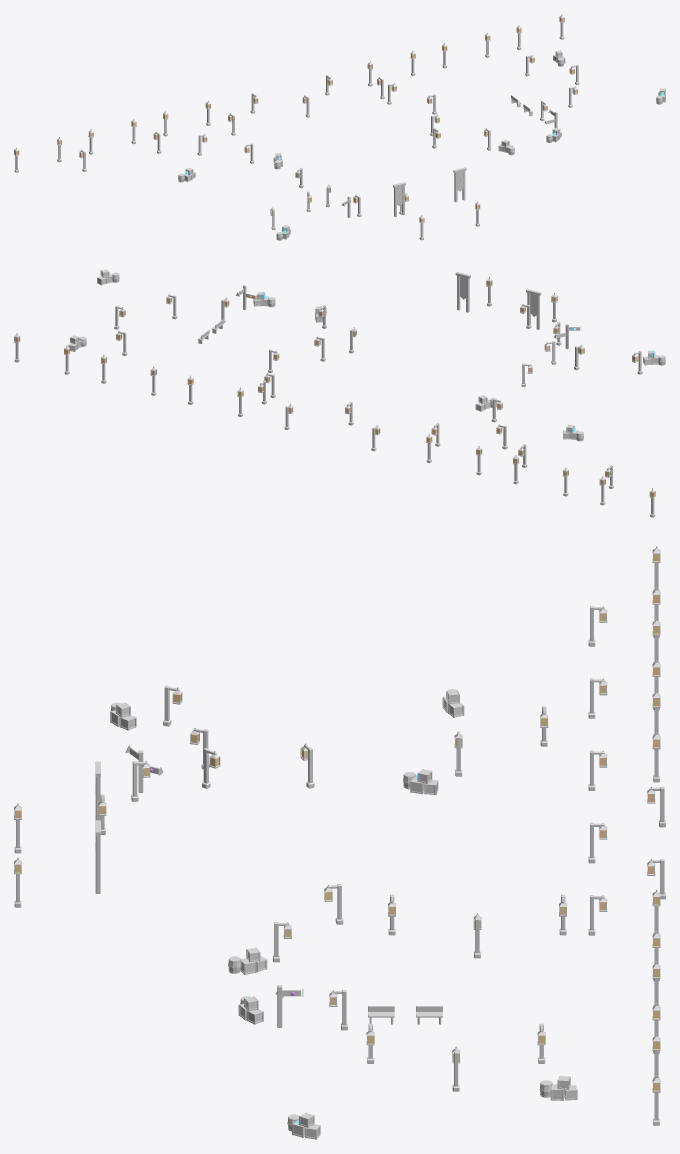
The model's file is LOBBY_08_PROPS.fbx.
The picture shows the model from 3 angles, top to bottom: view 1: azimuth 30°, elevation 25°; view 2: azimuth 150°, elevation 25°; view 3: azimuth 270°, elevation 25°; orthographic projection. The views are drawn at different scales.
Visible parts, largest first — view 1: PROP_Path_Lanterns__Wood_Dark, PROP_Path_Lanterns__Stone_Dark, PROP_Path_Lanterns__Metal_Dark, PROP_Cargo__Wood_Plank, PROP_Path_Lanterns__Lantern_Glow, PROP_Cargo__Wood_Dark, PROP_Entrance_Banners__Wood_Dark; view 2: PROP_Path_Lanterns__Wood_Dark, PROP_Path_Lanterns__Stone_Dark, PROP_Path_Lanterns__Metal_Dark, PROP_Cargo__Wood_Plank, PROP_Path_Lanterns__Lantern_Glow, PROP_Cargo__Wood_Dark, PROP_Entrance_Banners__Wood_Dark; view 3: PROP_Path_Lanterns__Wood_Dark, PROP_Path_Lanterns__Stone_Dark, PROP_Cargo__Wood_Plank, PROP_Path_Lanterns__Metal_Dark, PROP_Cargo__Wood_Dark, PROP_Path_Lanterns__Lantern_Glow.
Part boxes in pixels (bbox=[...]): PROP_Path_Lanterns__Wood_Dark: bbox=[15, 23, 578, 237]; PROP_Path_Lanterns__Stone_Dark: bbox=[14, 21, 579, 240]; PROP_Path_Lanterns__Metal_Dark: bbox=[14, 14, 577, 223]; PROP_Cargo__Wood_Plank: bbox=[178, 50, 665, 240]; PROP_Path_Lanterns__Lantern_Glow: bbox=[14, 18, 577, 222]; PROP_Cargo__Wood_Dark: bbox=[184, 50, 665, 239]; PROP_Entrance_Banners__Wood_Dark: bbox=[393, 167, 466, 216]; PROP_Path_Lanterns__Wood_Dark: bbox=[15, 287, 654, 514]; PROP_Path_Lanterns__Stone_Dark: bbox=[14, 285, 655, 517]; PROP_Path_Lanterns__Metal_Dark: bbox=[14, 277, 655, 498]; PROP_Cargo__Wood_Plank: bbox=[69, 269, 665, 441]; PROP_Path_Lanterns__Lantern_Glow: bbox=[15, 281, 654, 496]; PROP_Cargo__Wood_Dark: bbox=[68, 269, 658, 439]; PROP_Entrance_Banners__Wood_Dark: bbox=[455, 272, 541, 329]; PROP_Path_Lanterns__Wood_Dark: bbox=[16, 563, 663, 1120]; PROP_Path_Lanterns__Stone_Dark: bbox=[14, 559, 665, 1125]; PROP_Cargo__Wood_Plank: bbox=[110, 689, 577, 1138]; PROP_Path_Lanterns__Metal_Dark: bbox=[14, 546, 660, 1092]; PROP_Cargo__Wood_Dark: bbox=[110, 689, 577, 1139]; PROP_Path_Lanterns__Lantern_Glow: bbox=[15, 553, 659, 1090].
Bounding box in the file's own units: 242 × 17.05 × 122.
